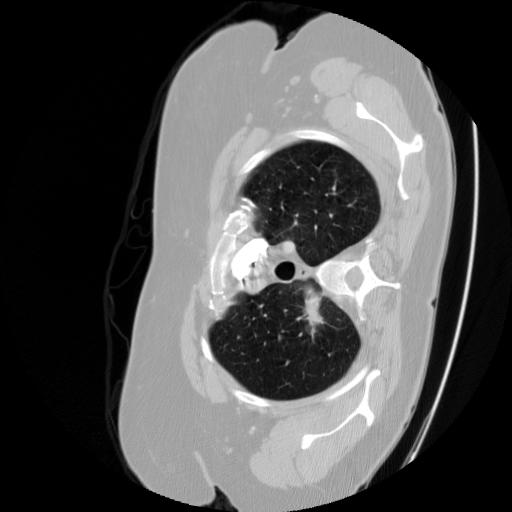nodule: (297, 294, 331, 328)
